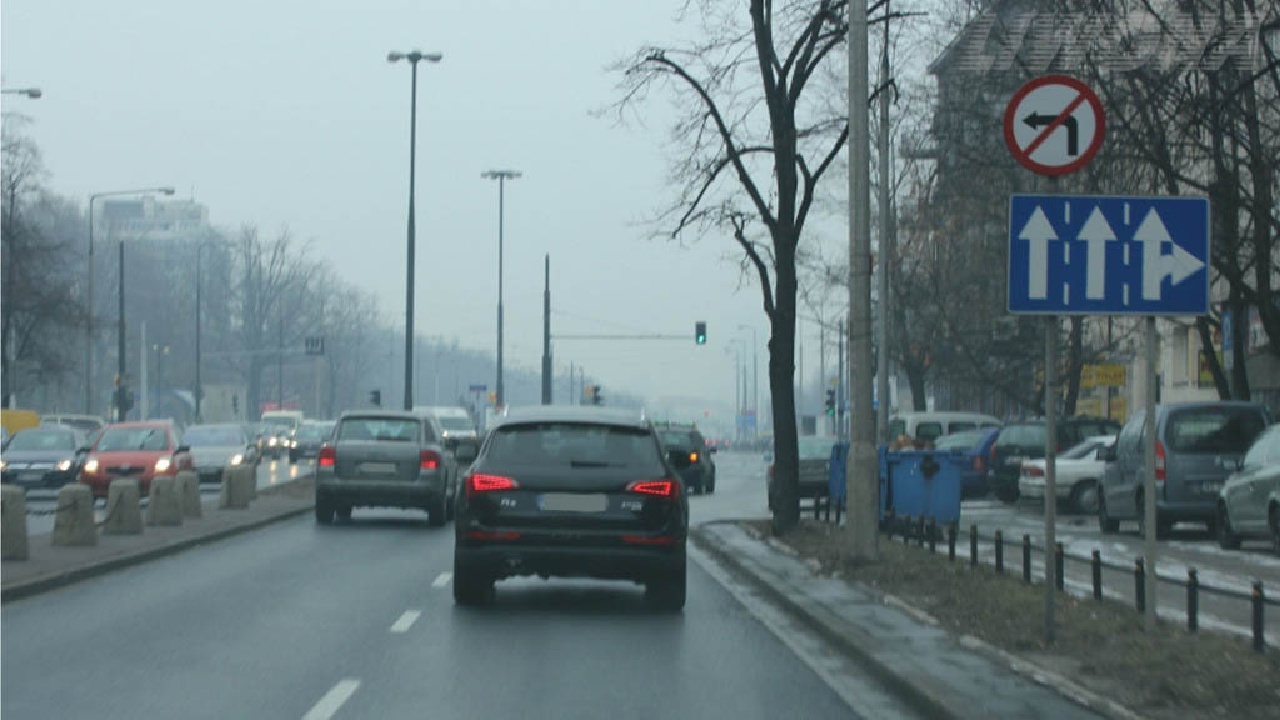B21: (1003, 75, 1106, 178)
